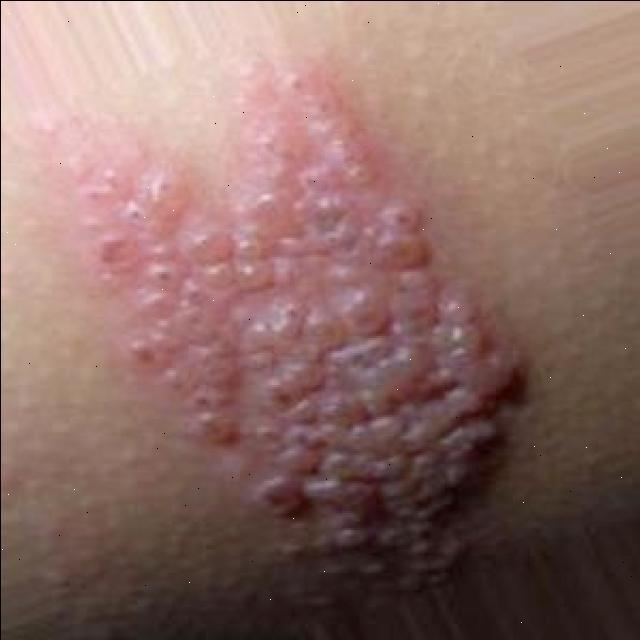Shingles: (84, 60, 522, 583)
